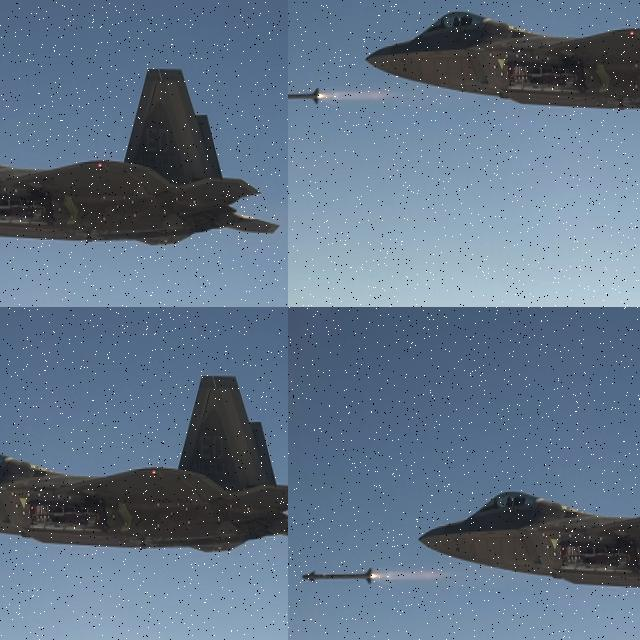Apache: (288, 0, 640, 307), (0, 307, 288, 640), (0, 42, 170, 307)
F22: (410, 415, 640, 608)
